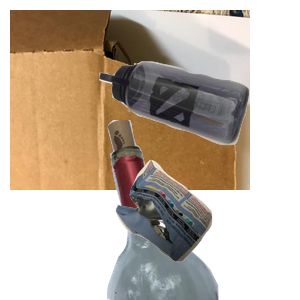cardboard: (10, 10, 250, 190)
glass: (83, 120, 294, 300)
plastic: (97, 59, 300, 197)
trash: (113, 157, 300, 300)
